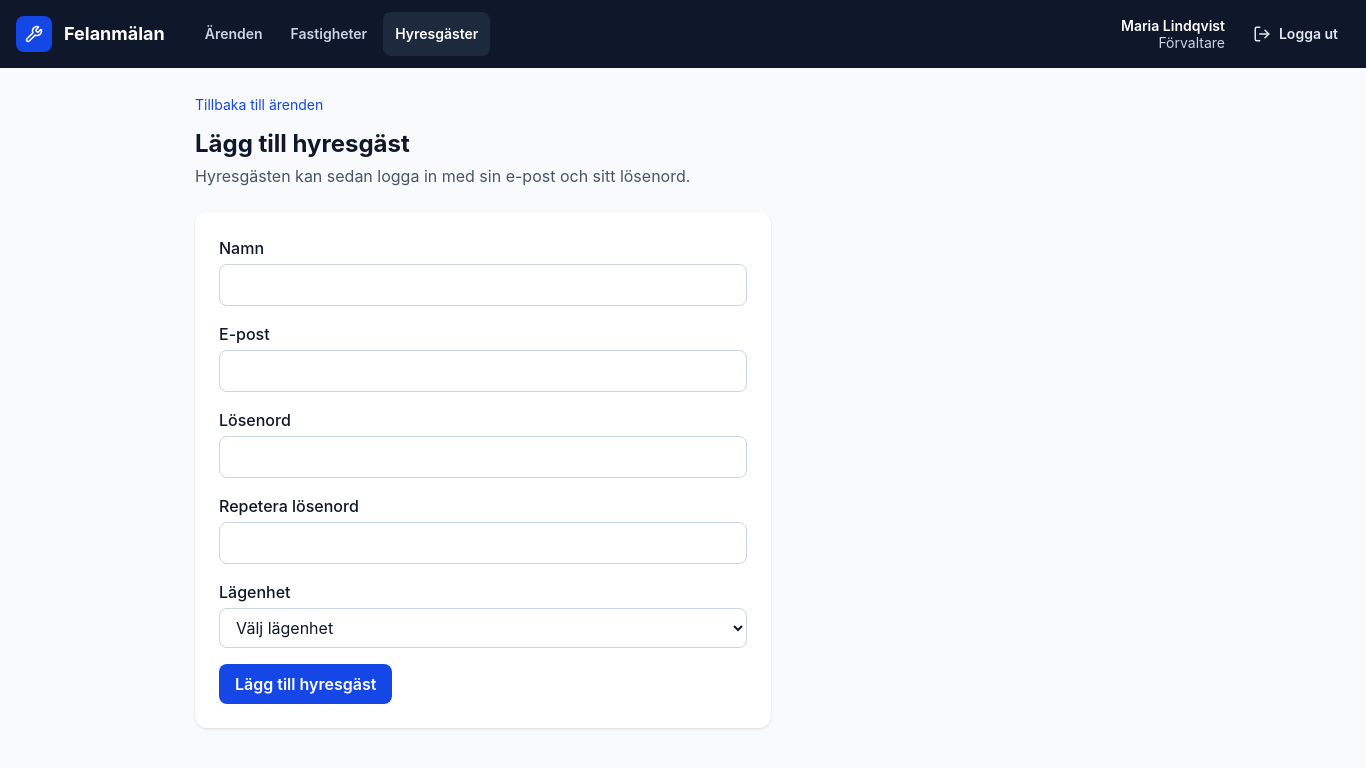
AddTenant › lägger till en hyresgäst och tar bort lägenheten ur listan
In the field labelled "Namn": (483, 285) [219,264,747,306], type "Test Testsson"
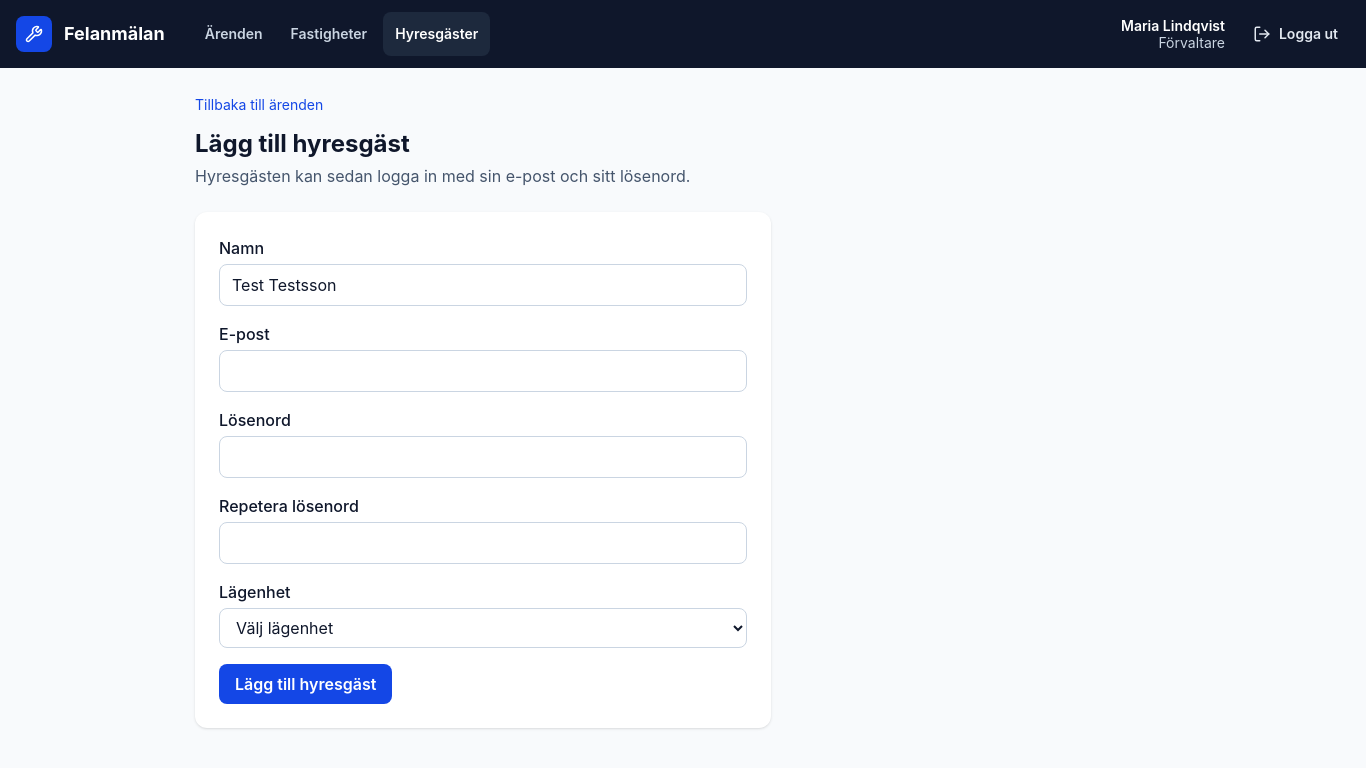
In the field labelled "E-post": (483, 371) [219,350,747,392], type "test@example.com"
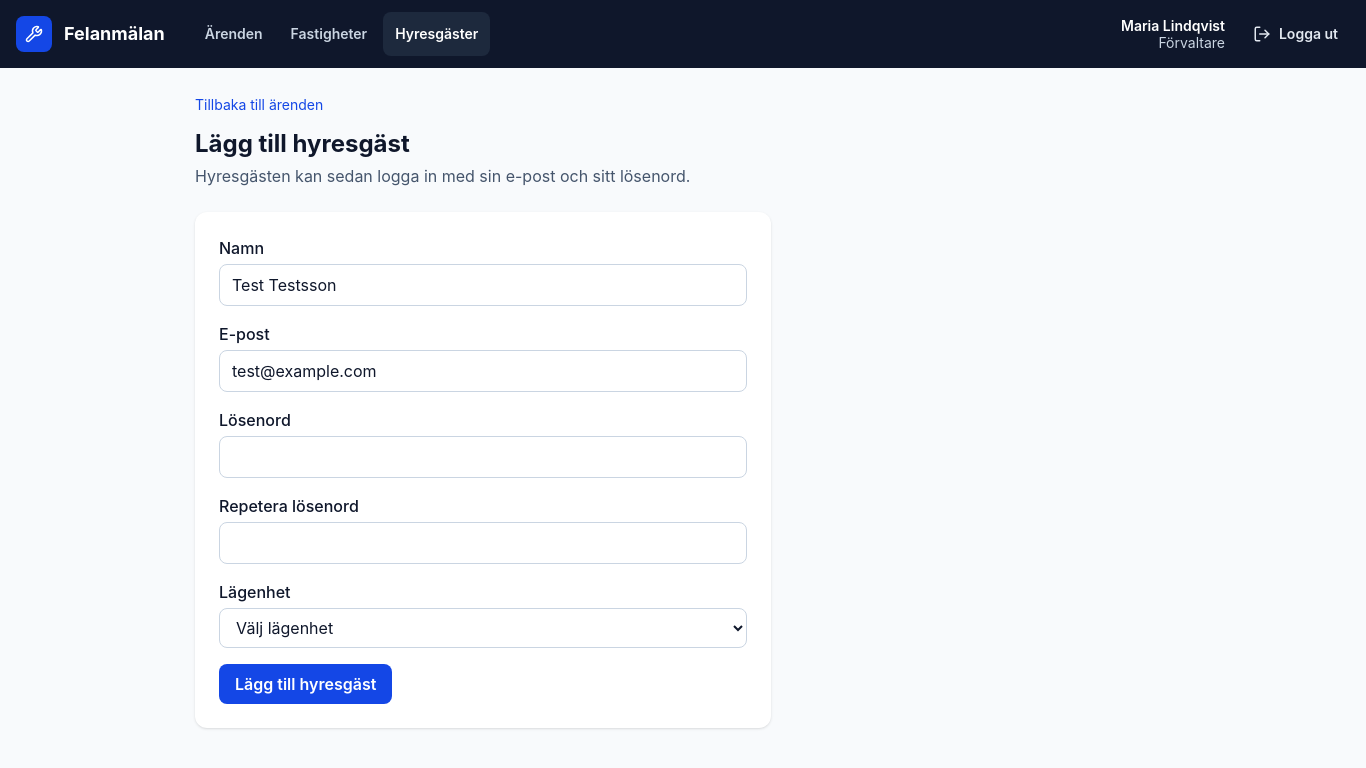
In the password field labelled "Lösenord": (483, 457) [219,436,747,478], type "hemligt123"
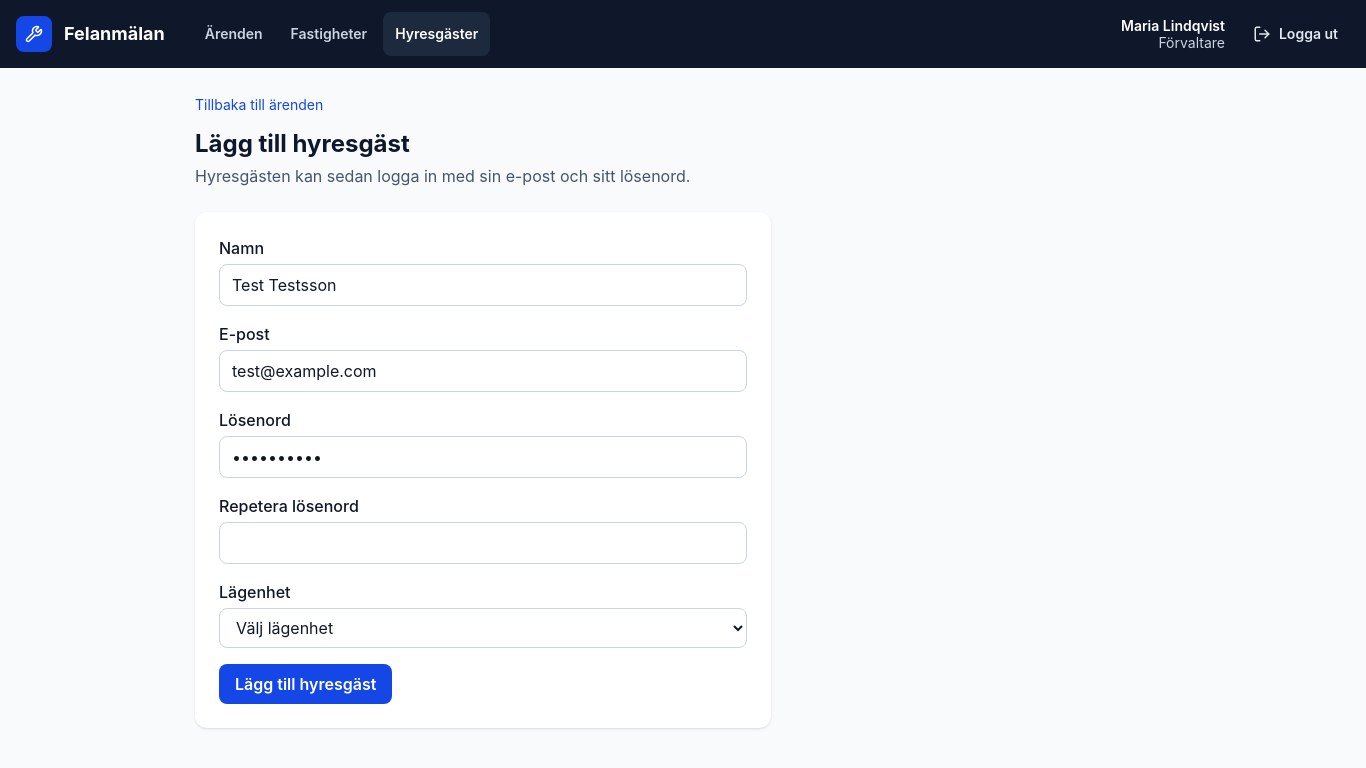
In the password field labelled "Repetera lösenord": (483, 543) [219,522,747,564], type "hemligt123"
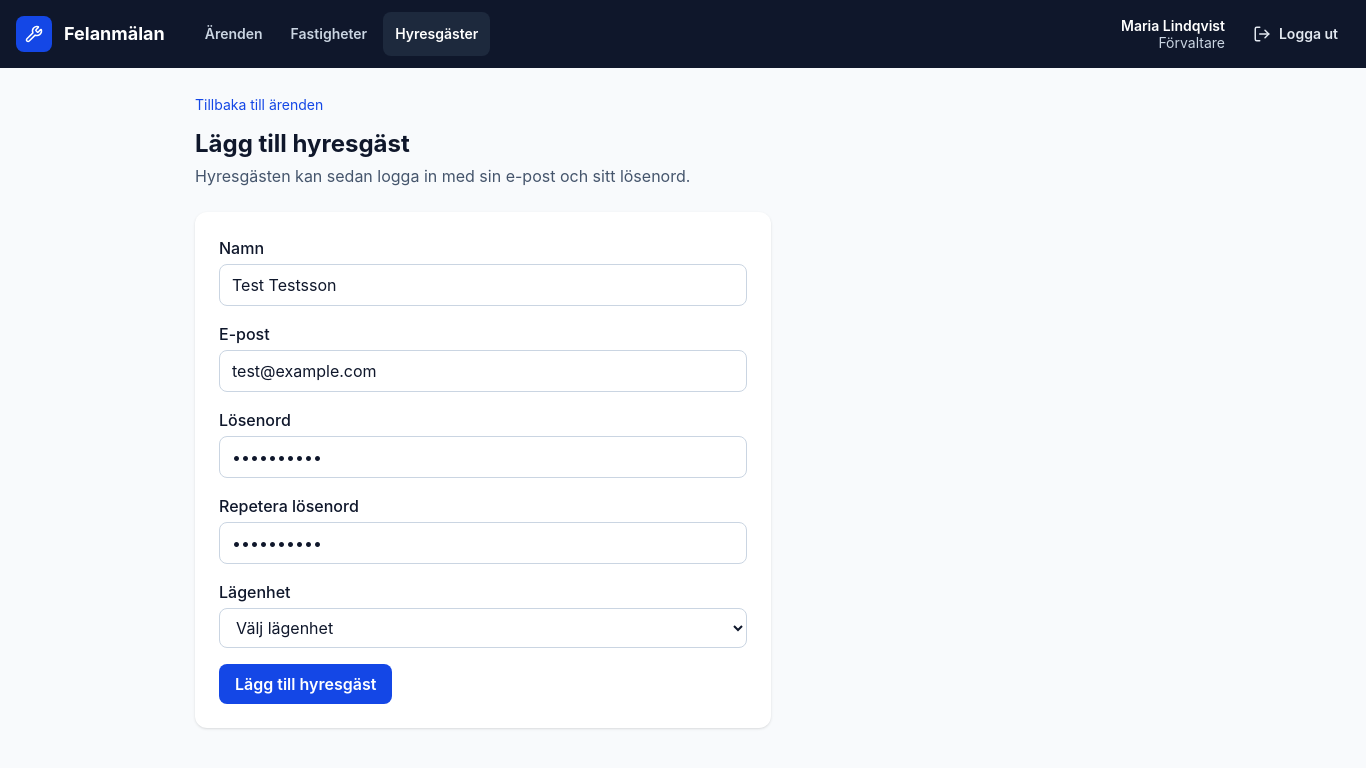
Select "1102 (våning 1)" in the dropdown labelled "Lägenhet": (483, 628) [219,608,747,648]
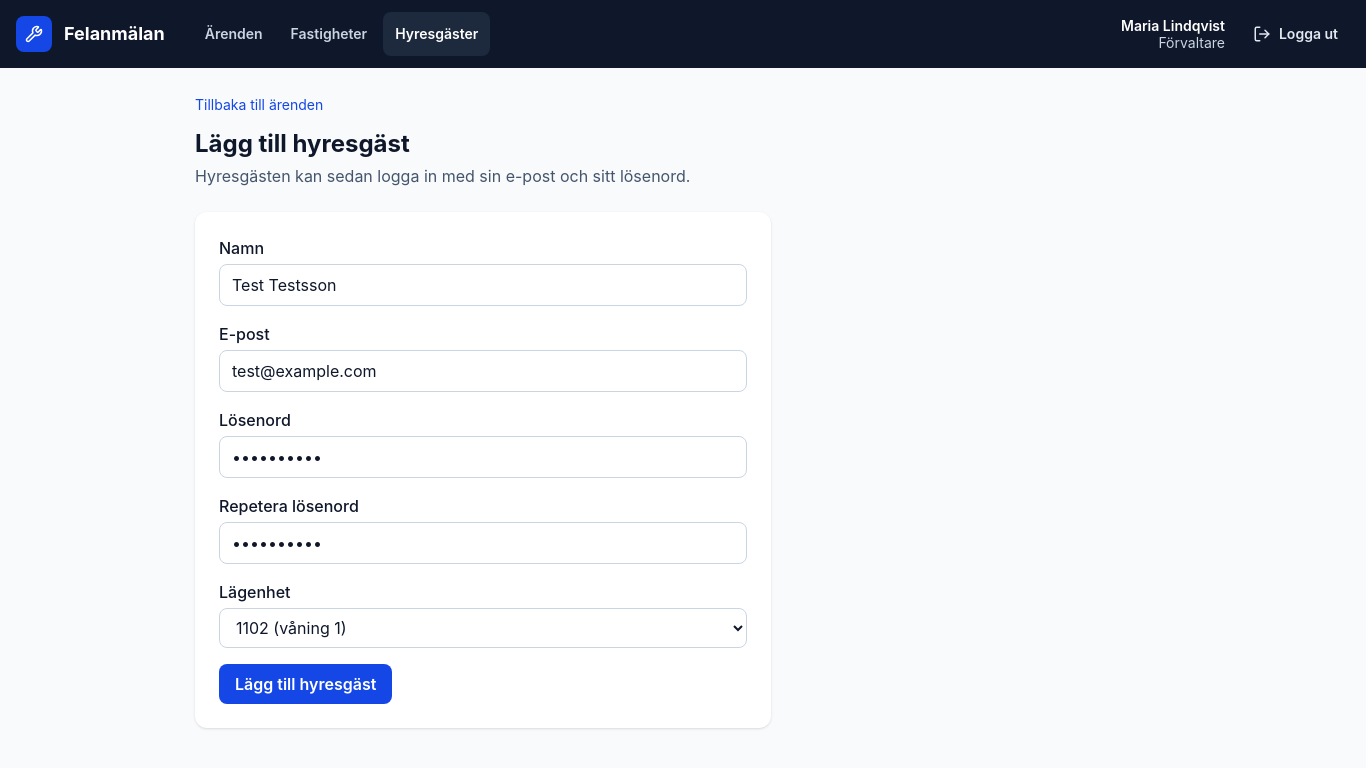
Click the button "Lägg till hyresgäst": (306, 684) [219,664,392,704]
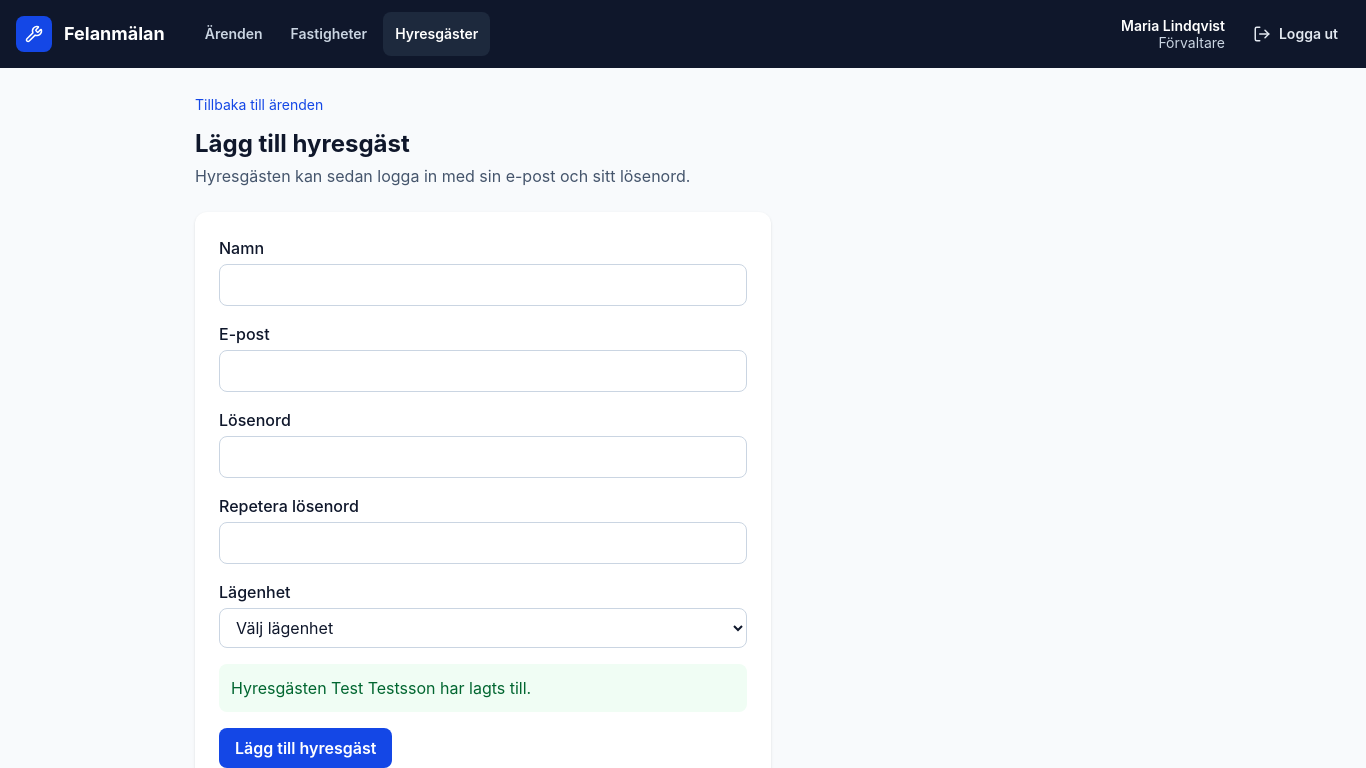
Expected: the message reads "Hyresgästen Test Testsson har lagts till.", [219,664,747,712]
Expected: the field labelled "Namn" is empty, [219,264,747,306]
